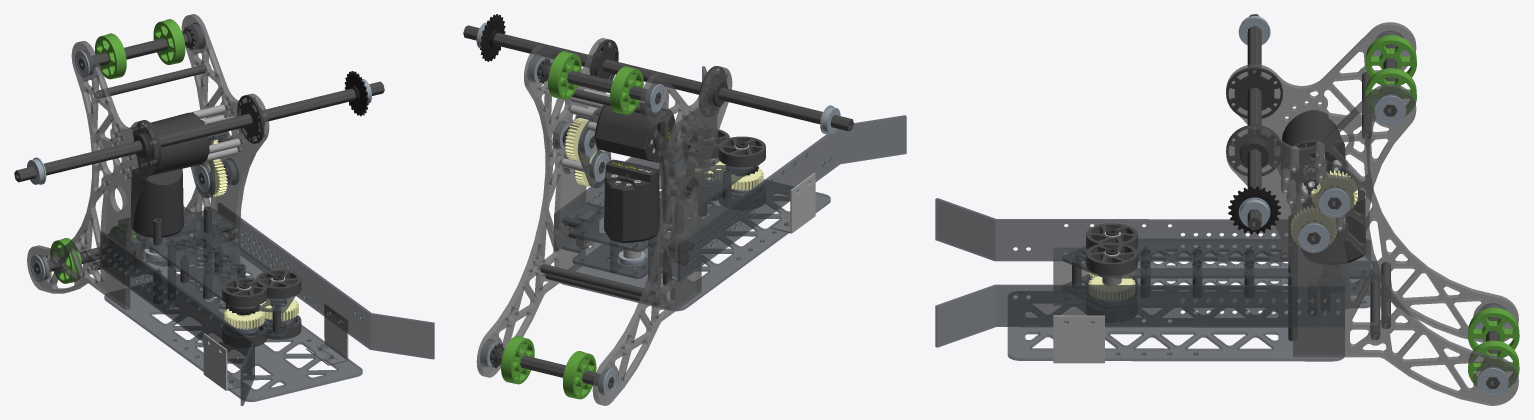
3 views of the same model, side by side, from view 1: azimuth 30°, elevation 25°; view 2: azimuth 150°, elevation 25°; view 3: azimuth 270°, elevation 25° (orthographic). The views are drawn at different scales.
Visible parts, largest first — view 1: Arm Mount w/ Algae (×2), Claw Bent Funnels (×2), Claw Plate (×2), Claw Bottom Plate, Kraken X60 Brushless Motor (×2), 1/2" ThunderHex - 18.625", 2" 1/2" Hex Bore Flex Wheel (WCP-0133) (×4), 2" OD 1/2" Hex Bore Compliant Wheel 35A (am-3462) (×3), Claw Funnel to Bottom Connector (×2), 1/2" Hex Bore Aluminum Versahub (217-2592) (×2), 34t 20dp Aluminum 1/2" Hex Bore Gear (217-2706) (×3), .5" Hex ID 1.125" OD Flanged Bearing (217-2734) (×3) (+4 smaller); view 2: Arm Mount w/ Algae (×2), Claw Bent Funnels (×2), Claw Plate (×2), Kraken X60 Brushless Motor (×2), Claw Bottom Plate, 2" OD 1/2" Hex Bore Compliant Wheel 35A (am-3462) (×4), 1/2" ThunderHex - 18.625", 2" 1/2" Hex Bore Flex Wheel (WCP-0133) (×3), Long Algae Spacers (×3), 1/2" ThunderHex - 6" (×2), 1/2" Hex Bore Aluminum Versahub (217-2592) (×2), Claw Funnel to Bottom Connector (+5 smaller); view 3: Arm Mount w/ Algae (×2), Claw Bent Funnels (×2), Claw Plate (×2), Claw Bottom Plate, 2" OD 1/2" Hex Bore Compliant Wheel 35A (am-3462) (×4), Kraken X60 Brushless Motor (×2), .5" Hex ID 1.125" OD Flanged Bearing (217-2734) (×6), 1/2" Hex Bore Aluminum Versahub (217-2592) (×2), Claw Funnel to Bottom Connector (×2), 2" 1/2" Hex Bore Flex Wheel (WCP-0133) (×3), 34t 20dp Aluminum 1/2" Hex Bore Gear (217-2706) (×3), 1/2" ThunderHex - 18.625" (+2 smaller).
Boxes of the visible parts, bbox=[...] form: Arm Mount w/ Algae (×2): bbox=[27, 14, 269, 309]; Claw Bent Funnels (×2): bbox=[100, 203, 434, 405]; Claw Plate (×2): bbox=[108, 206, 296, 338]; Claw Bottom Plate: bbox=[104, 271, 362, 401]; Kraken X60 Brushless Motor (×2): bbox=[131, 112, 211, 237]; 1/2" ThunderHex - 18.625": bbox=[14, 81, 384, 182]; 2" 1/2" Hex Bore Flex Wheel (WCP-0133) (×4): bbox=[222, 269, 301, 347]; 2" OD 1/2" Hex Bore Compliant Wheel 35A (am-3462) (×3): bbox=[50, 19, 185, 283]; Claw Funnel to Bottom Connector (×2): bbox=[203, 304, 348, 390]; 1/2" Hex Bore Aluminum Versahub (217-2592) (×2): bbox=[133, 95, 264, 168]; 34t 20dp Aluminum 1/2" Hex Bore Gear (217-2706) (×3): bbox=[202, 159, 298, 329]; .5" Hex ID 1.125" OD Flanged Bearing (217-2734) (×3): bbox=[30, 50, 213, 282]; Arm Mount w/ Algae (×2): bbox=[476, 38, 732, 405]; Claw Bent Funnels (×2): bbox=[554, 66, 906, 281]; Claw Plate (×2): bbox=[561, 152, 760, 278]; Kraken X60 Brushless Motor (×2): bbox=[593, 102, 677, 246]; Claw Bottom Plate: bbox=[560, 179, 830, 311]; 2" OD 1/2" Hex Bore Compliant Wheel 35A (am-3462) (×4): bbox=[501, 51, 643, 399]; 1/2" ThunderHex - 18.625": bbox=[463, 25, 853, 131]; 2" 1/2" Hex Bore Flex Wheel (WCP-0133) (×3): bbox=[682, 128, 765, 210]; Long Algae Spacers (×3): bbox=[540, 89, 664, 305]; 1/2" ThunderHex - 6" (×2): bbox=[498, 65, 661, 389]; 1/2" Hex Bore Aluminum Versahub (217-2592) (×2): bbox=[589, 39, 727, 116]; Claw Funnel to Bottom Connector: bbox=[771, 173, 815, 233]; Arm Mount w/ Algae (×2): bbox=[1226, 22, 1518, 405]; Claw Bent Funnels (×2): bbox=[935, 198, 1344, 347]; Claw Plate (×2): bbox=[1062, 238, 1370, 313]; Claw Bottom Plate: bbox=[1007, 291, 1344, 361]; 2" OD 1/2" Hex Bore Compliant Wheel 35A (am-3462) (×4): bbox=[1365, 35, 1519, 387]; Kraken X60 Brushless Motor (×2): bbox=[1281, 110, 1365, 264]; .5" Hex ID 1.125" OD Flanged Bearing (217-2734) (×6): bbox=[1238, 16, 1508, 397]; 1/2" Hex Bore Aluminum Versahub (217-2592) (×2): bbox=[1226, 67, 1282, 175]; Claw Funnel to Bottom Connector (×2): bbox=[1053, 248, 1104, 363]; 2" 1/2" Hex Bore Flex Wheel (WCP-0133) (×3): bbox=[1086, 223, 1137, 322]; 34t 20dp Aluminum 1/2" Hex Bore Gear (217-2706) (×3): bbox=[1088, 170, 1357, 300]; 1/2" ThunderHex - 18.625": bbox=[1247, 14, 1261, 230].
Size of the model in its own units: 0.4731 by 0.3457 by 0.5724.
